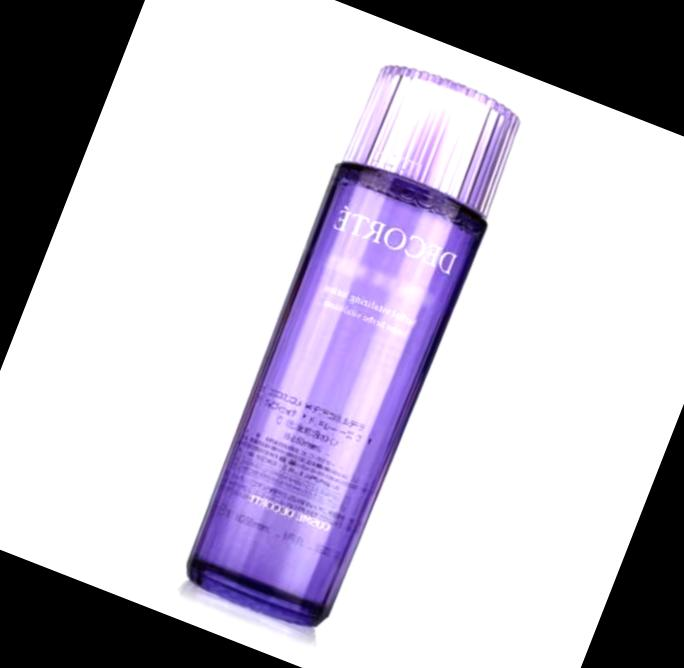cosmetic: (169, 56, 538, 642)
